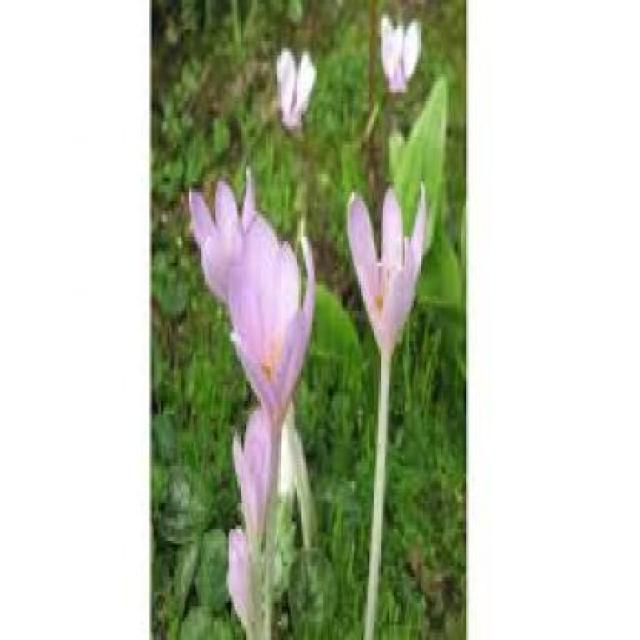Flower: (228, 226, 320, 426), (346, 188, 426, 360)
